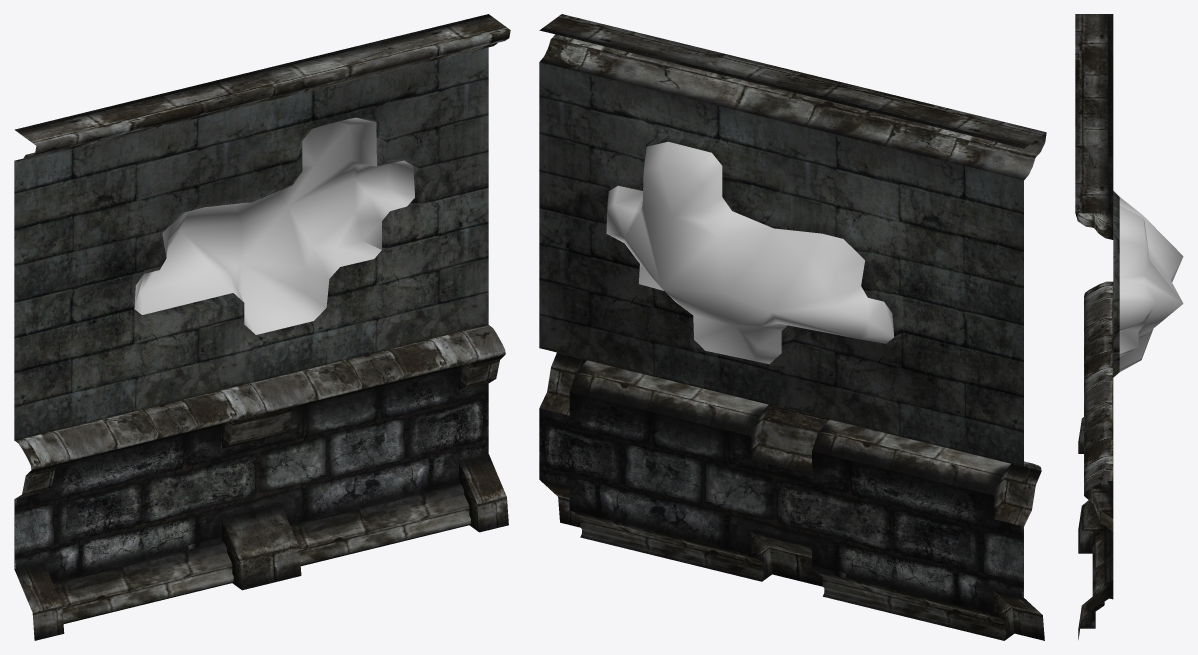
File: default_broken03_alt.dae
3 renders of one model, left to right at view 1: azimuth 30°, elevation 25°; view 2: azimuth 150°, elevation 25°; view 3: azimuth 270°, elevation 25°, orthographic. The views are drawn at different scales.
Visible parts, largest first — view 1: polySurface120, polySurface116; view 2: polySurface120, polySurface116; view 3: polySurface120, polySurface116.
Boxes of the visible parts, <box> form: polySurface120: <box>14,14,510,640</box>; polySurface116: <box>134,117,414,334</box>; polySurface120: <box>539,14,1046,640</box>; polySurface116: <box>606,141,893,363</box>; polySurface120: <box>1075,14,1119,639</box>; polySurface116: <box>1119,197,1183,371</box>.
Size of what is drawn, in the model's own units: 4 by 4 by 0.9167.
